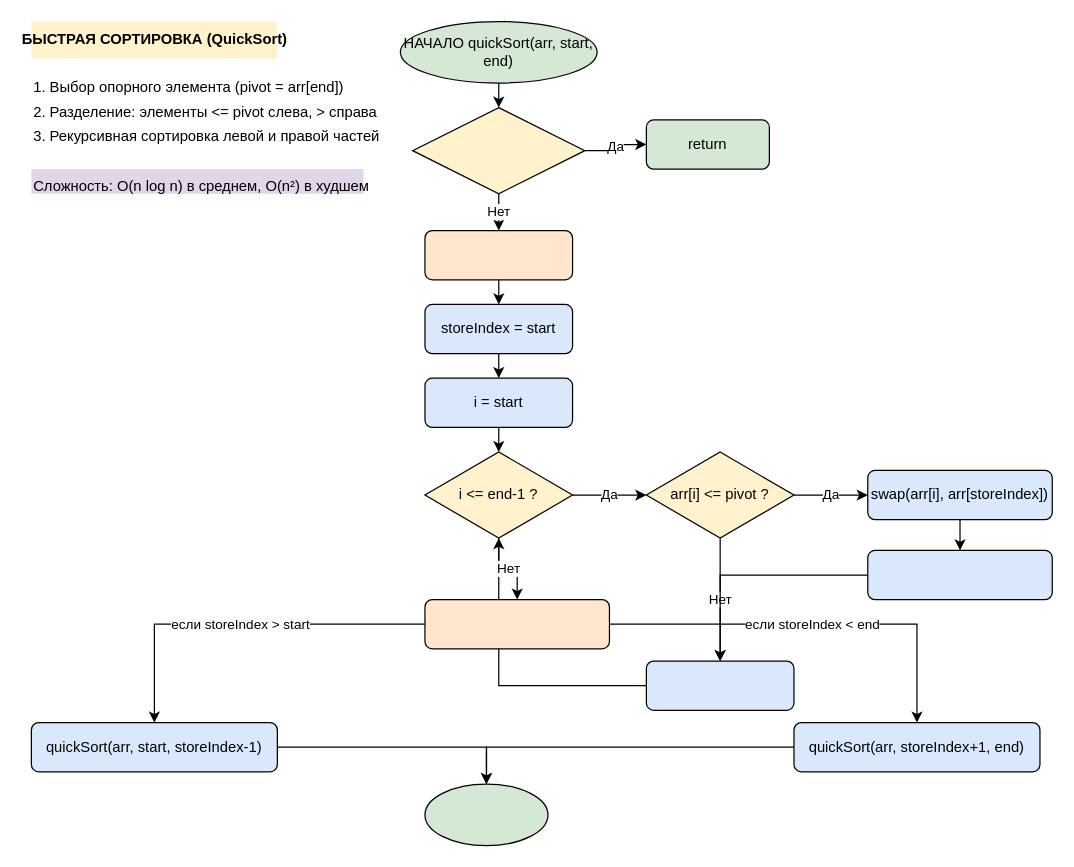
Image size: 1074x867. Some labels were removed from this diagram. Each missing label, with the centre of its shape:
"end <= start ?" goes at pixel 498 150.
"i++" goes at pixel 719 685.
"pivot = arr[end]" goes at pixel 498 254.
"storeIndex++" goes at pixel 959 574.
"swap(arr[storeIndex], arr[end])" goes at pixel 516 623.
"КОНЕЦ" goes at pixel 486 814.
